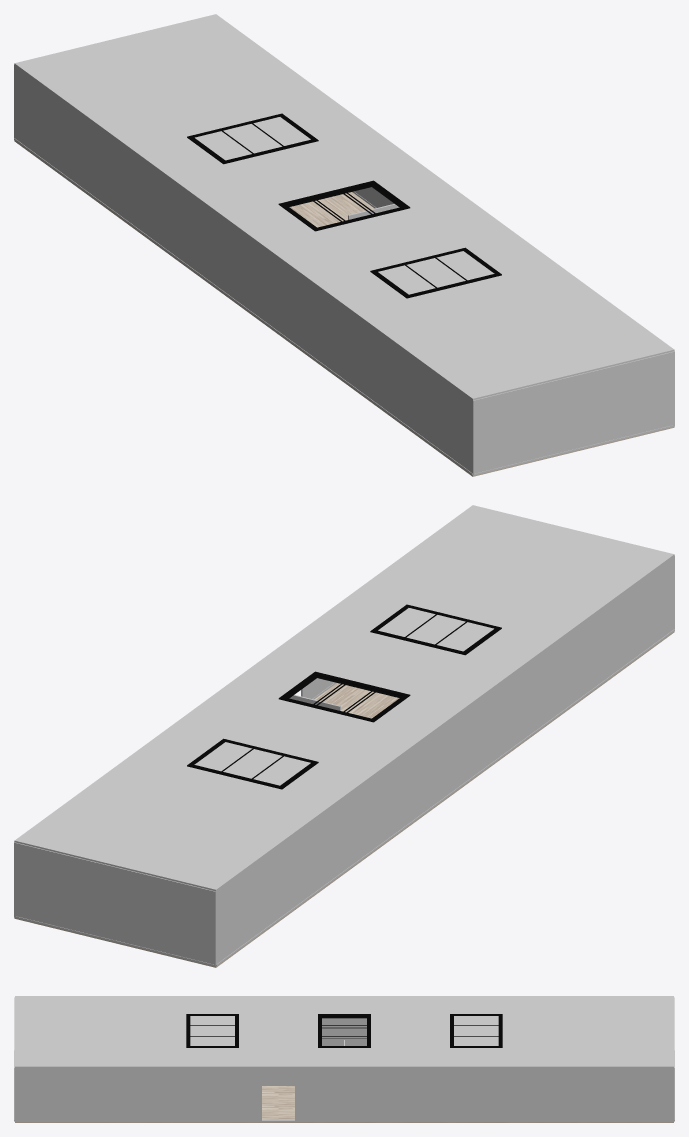
The model's file is room2.glb.
The picture shows the model from 3 angles, top to bottom: view 1: azimuth 30°, elevation 25°; view 2: azimuth 150°, elevation 25°; view 3: azimuth 270°, elevation 25°; orthographic projection. The views are drawn at different scales.
Parts seen in each view (by area): view 1: Cube.005, Cube.003, Cube, Cube.004, Cube.007, Cube.011, Cube.009, Cube.008; view 2: Cube.005, Cube.003, Cube.001, Cube.004, Cube.007, Cube.011, Cube.008, Cube.009; view 3: Cube.005, Cube.002, Cube.004, Cube.010, Cube.003, Cube.007, Cube.008, Cube.009.
Part boxes in pixels (bbox=[...]): Cube.005: bbox=[14, 14, 674, 400]; Cube.003: bbox=[14, 65, 474, 475]; Cube: bbox=[475, 351, 673, 473]; Cube.004: bbox=[14, 140, 674, 476]; Cube.007: bbox=[278, 180, 410, 231]; Cube.011: bbox=[14, 138, 472, 475]; Cube.009: bbox=[370, 247, 501, 298]; Cube.008: bbox=[187, 113, 318, 164]; Cube.005: bbox=[14, 505, 674, 891]; Cube.003: bbox=[214, 556, 674, 966]; Cube.001: bbox=[15, 842, 213, 964]; Cube.004: bbox=[14, 631, 674, 967]; Cube.007: bbox=[278, 671, 410, 722]; Cube.011: bbox=[216, 629, 674, 966]; Cube.008: bbox=[187, 738, 318, 789]; Cube.009: bbox=[370, 604, 501, 655]; Cube.005: bbox=[15, 996, 673, 1067]; Cube.002: bbox=[14, 1067, 674, 1121]; Cube.004: bbox=[15, 1086, 673, 1122]; Cube.010: bbox=[15, 1120, 673, 1121]; Cube.003: bbox=[14, 997, 674, 1045]; Cube.007: bbox=[318, 1014, 370, 1047]; Cube.008: bbox=[450, 1014, 502, 1047]; Cube.009: bbox=[186, 1014, 238, 1047].
Size of the model in its own units: 12.75 by 4.75 by 50.15.
Materials: 3 (1 with a texture image).
